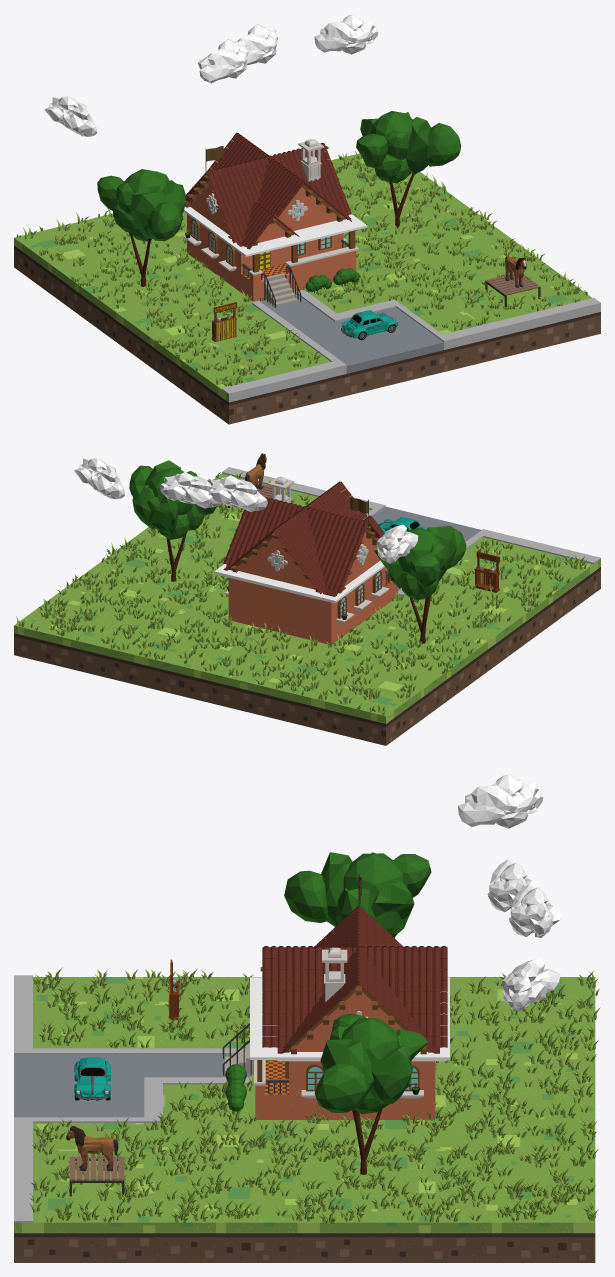
The picture shows the model from 3 angles, top to bottom: view 1: azimuth 30°, elevation 25°; view 2: azimuth 150°, elevation 25°; view 3: azimuth 270°, elevation 25°; orthographic projection. The views are drawn at different scales.
Visible parts, largest first — view 1: Cube.006, Cube.1141, Circle.012_Grass_0.192, Cube.007, tree, tree.001, VEHICLES_VOLKSWAGEN, OBJRANDOM_LEMONADE_STAND, Cube.009; view 2: Cube.006, Cube.1141, Circle.012_Grass_0.192, Cube.007, tree.001, tree, OBJRANDOM_LEMONADE_STAND, ANIMAL_CABALLO; view 3: Cube.006, Circle.012_Grass_0.192, Cube.1141, tree, Cube.007, tree.001, VEHICLES_VOLKSWAGEN, Cube.009, ANIMAL_CABALLO.
Boxes of the visible parts, x1,y1,x2,y2 form: Cube.006: [14, 153, 600, 424]; Cube.1141: [183, 132, 367, 307]; Circle.012_Grass_0.192: [16, 151, 587, 386]; Cube.007: [44, 14, 378, 136]; tree: [356, 111, 460, 228]; tree.001: [97, 169, 186, 286]; VEHICLES_VOLKSWAGEN: [341, 310, 398, 340]; OBJRANDOM_LEMONADE_STAND: [211, 302, 236, 341]; Cube.009: [485, 273, 540, 306]; Cube.006: [14, 467, 600, 745]; Cube.1141: [214, 476, 397, 644]; Circle.012_Grass_0.192: [16, 472, 587, 715]; Cube.007: [74, 457, 418, 563]; tree.001: [374, 526, 466, 643]; tree: [129, 460, 216, 581]; OBJRANDOM_LEMONADE_STAND: [474, 551, 499, 592]; ANIMAL_CABALLO: [245, 453, 266, 489]; Cube.006: [14, 975, 595, 1262]; Circle.012_Grass_0.192: [29, 967, 600, 1223]; Cube.1141: [222, 874, 449, 1119]; tree: [314, 1014, 428, 1174]; Cube.007: [457, 774, 560, 1011]; tree.001: [284, 852, 431, 938]; VEHICLES_VOLKSWAGEN: [74, 1057, 110, 1100]; Cube.009: [69, 1156, 124, 1196]; ANIMAL_CABALLO: [66, 1125, 118, 1171].
Size of the model in its own units: 4071 by 2175 by 4040.
46 materials, 3 textured.
